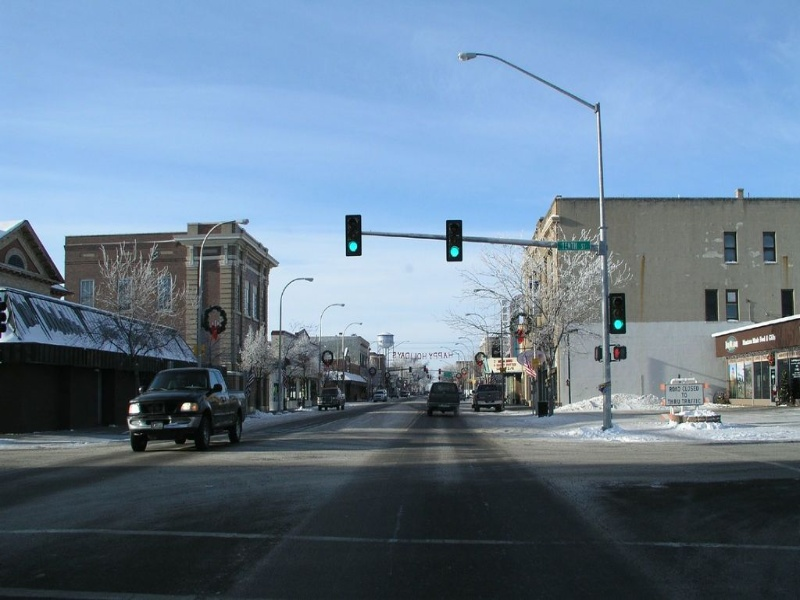green_light: (443, 244, 466, 264), (341, 237, 363, 257), (611, 316, 626, 334)
